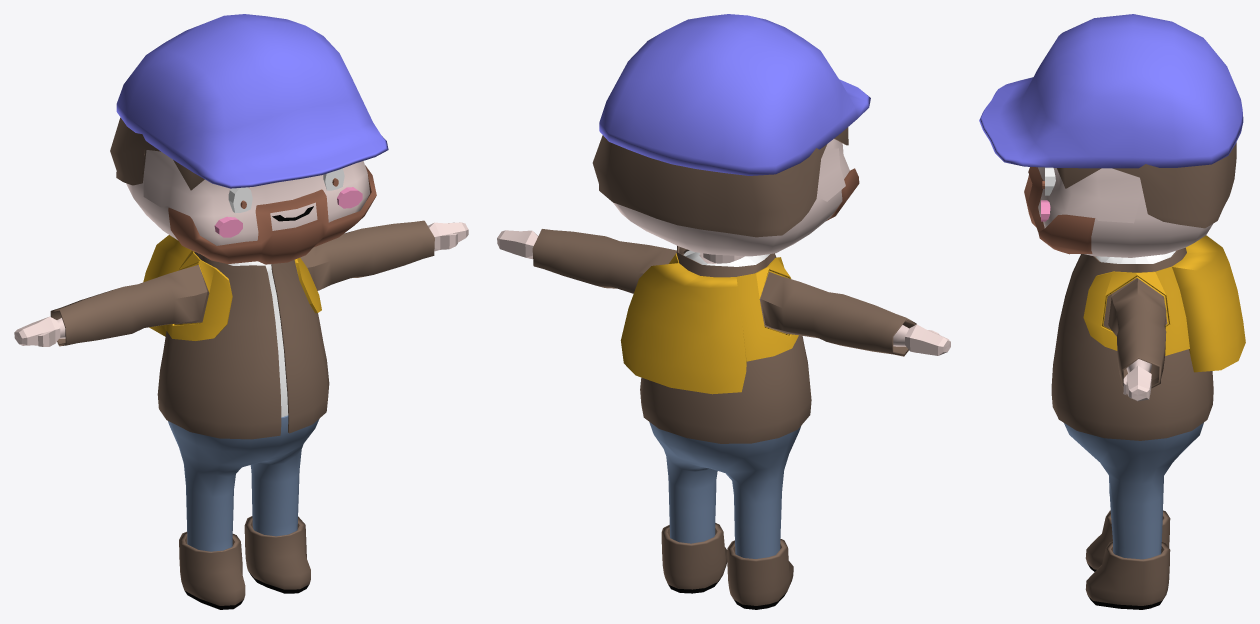
The model's file is Character.glb.
3 renders of one model, left to right at view 1: azimuth 30°, elevation 25°; view 2: azimuth 150°, elevation 25°; view 3: azimuth 270°, elevation 25°, orthographic.
Parts seen in each view (by area): view 1: Jacket, Cap, Jeans, Head, Boots, Beard, BackPack, Short_Hair, Male_Body, Shorts, Tshirt, Eyes (+1 smaller); view 2: Cap, Jacket, BackPack, Short_Hair, Jeans, Boots, Head, Male_Body; view 3: Cap, Jacket, BackPack, Head, Jeans, Short_Hair, Boots, Beard, Male_Body, Tshirt.
Part boxes in pixels (box(x1,y1,x2,y2)): Jacket: box(50, 220, 434, 439); Cap: box(116, 14, 388, 188); Jeans: box(168, 415, 319, 551); Head: box(126, 150, 370, 245); Boots: box(179, 516, 310, 609); Beard: box(168, 165, 376, 264); BackPack: box(143, 235, 321, 340); Short_Hair: box(110, 117, 204, 190); Male_Body: box(14, 222, 468, 346); Shorts: box(199, 418, 301, 496); Tshirt: box(228, 261, 288, 417); Eyes: box(228, 168, 344, 213); Cap: box(599, 14, 870, 175); Jacket: box(532, 229, 916, 443); BackPack: box(620, 253, 798, 394); Short_Hair: box(592, 127, 848, 237); Jeans: box(649, 422, 801, 558); Boots: box(661, 523, 793, 609); Head: box(613, 139, 849, 256); Male_Body: box(497, 230, 950, 355); Cap: box(979, 14, 1243, 168); Jacket: box(1051, 247, 1213, 440); BackPack: box(1083, 235, 1245, 372); Head: box(1038, 167, 1212, 257); Jeans: box(1064, 422, 1203, 559); Short_Hair: box(1057, 142, 1236, 228); Boots: box(1085, 510, 1170, 609); Beard: box(1024, 167, 1095, 254); Male_Body: box(1123, 359, 1151, 401); Tshirt: box(1095, 251, 1175, 263).
Bounding box in the file's own units: 1.35 × 1.63 × 0.7028.
